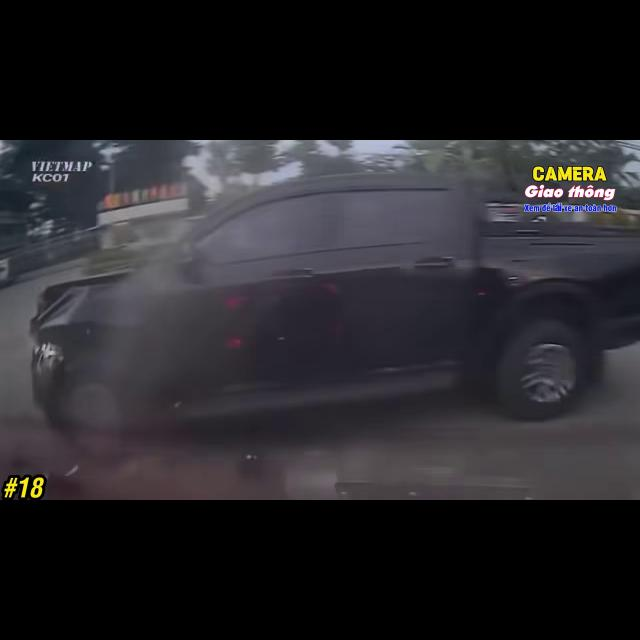car: (31, 174, 639, 426)
